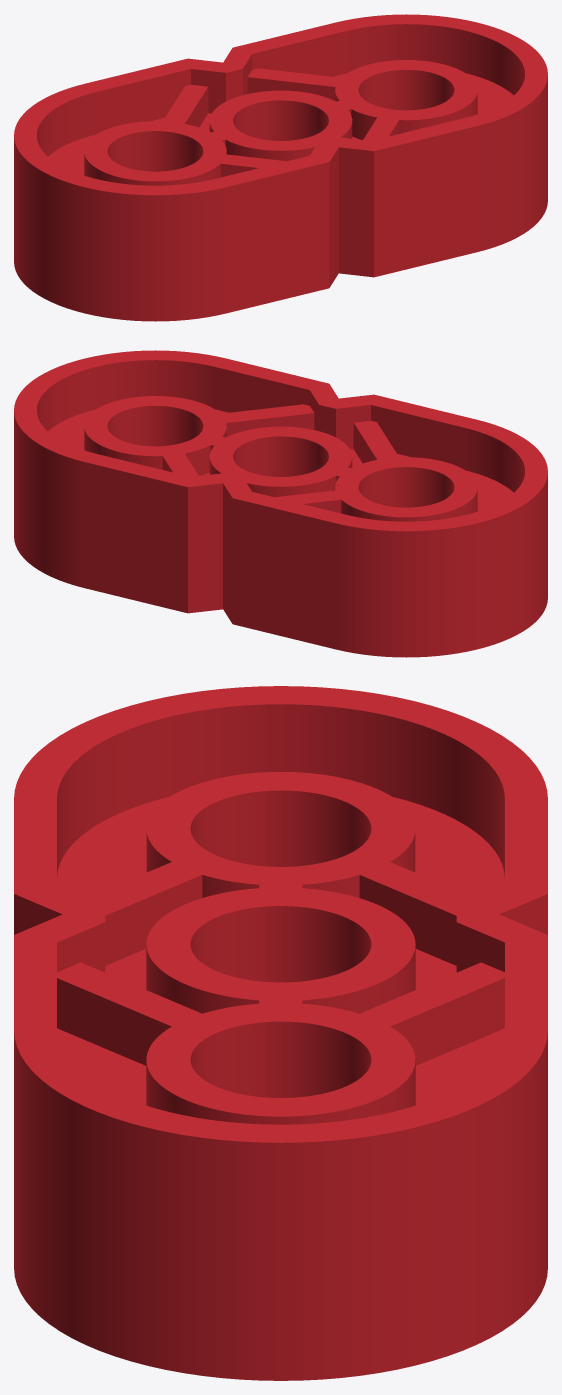
The picture shows the model from 3 angles, top to bottom: view 1: azimuth 30°, elevation 25°; view 2: azimuth 150°, elevation 25°; view 3: azimuth 270°, elevation 25°; orthographic projection. The views are drawn at different scales.
Visible parts, largest first — view 1: 228-2500-001; view 2: 228-2500-001; view 3: 228-2500-001.
Part boxes in pixels (box(x1,y1,x2,y2)): 228-2500-001: box(14, 14, 547, 321); 228-2500-001: box(14, 350, 547, 657); 228-2500-001: box(14, 686, 547, 1380).
Size of the model in its own units: 0.0251 by 0.0061 by 0.0124.
